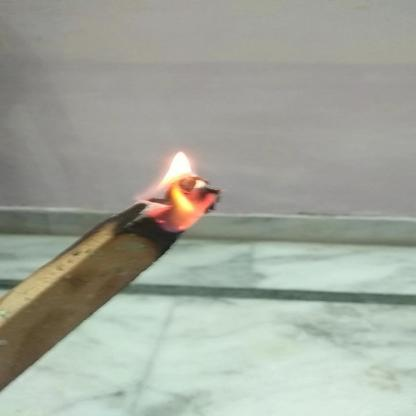fire: (135, 140, 229, 240)
